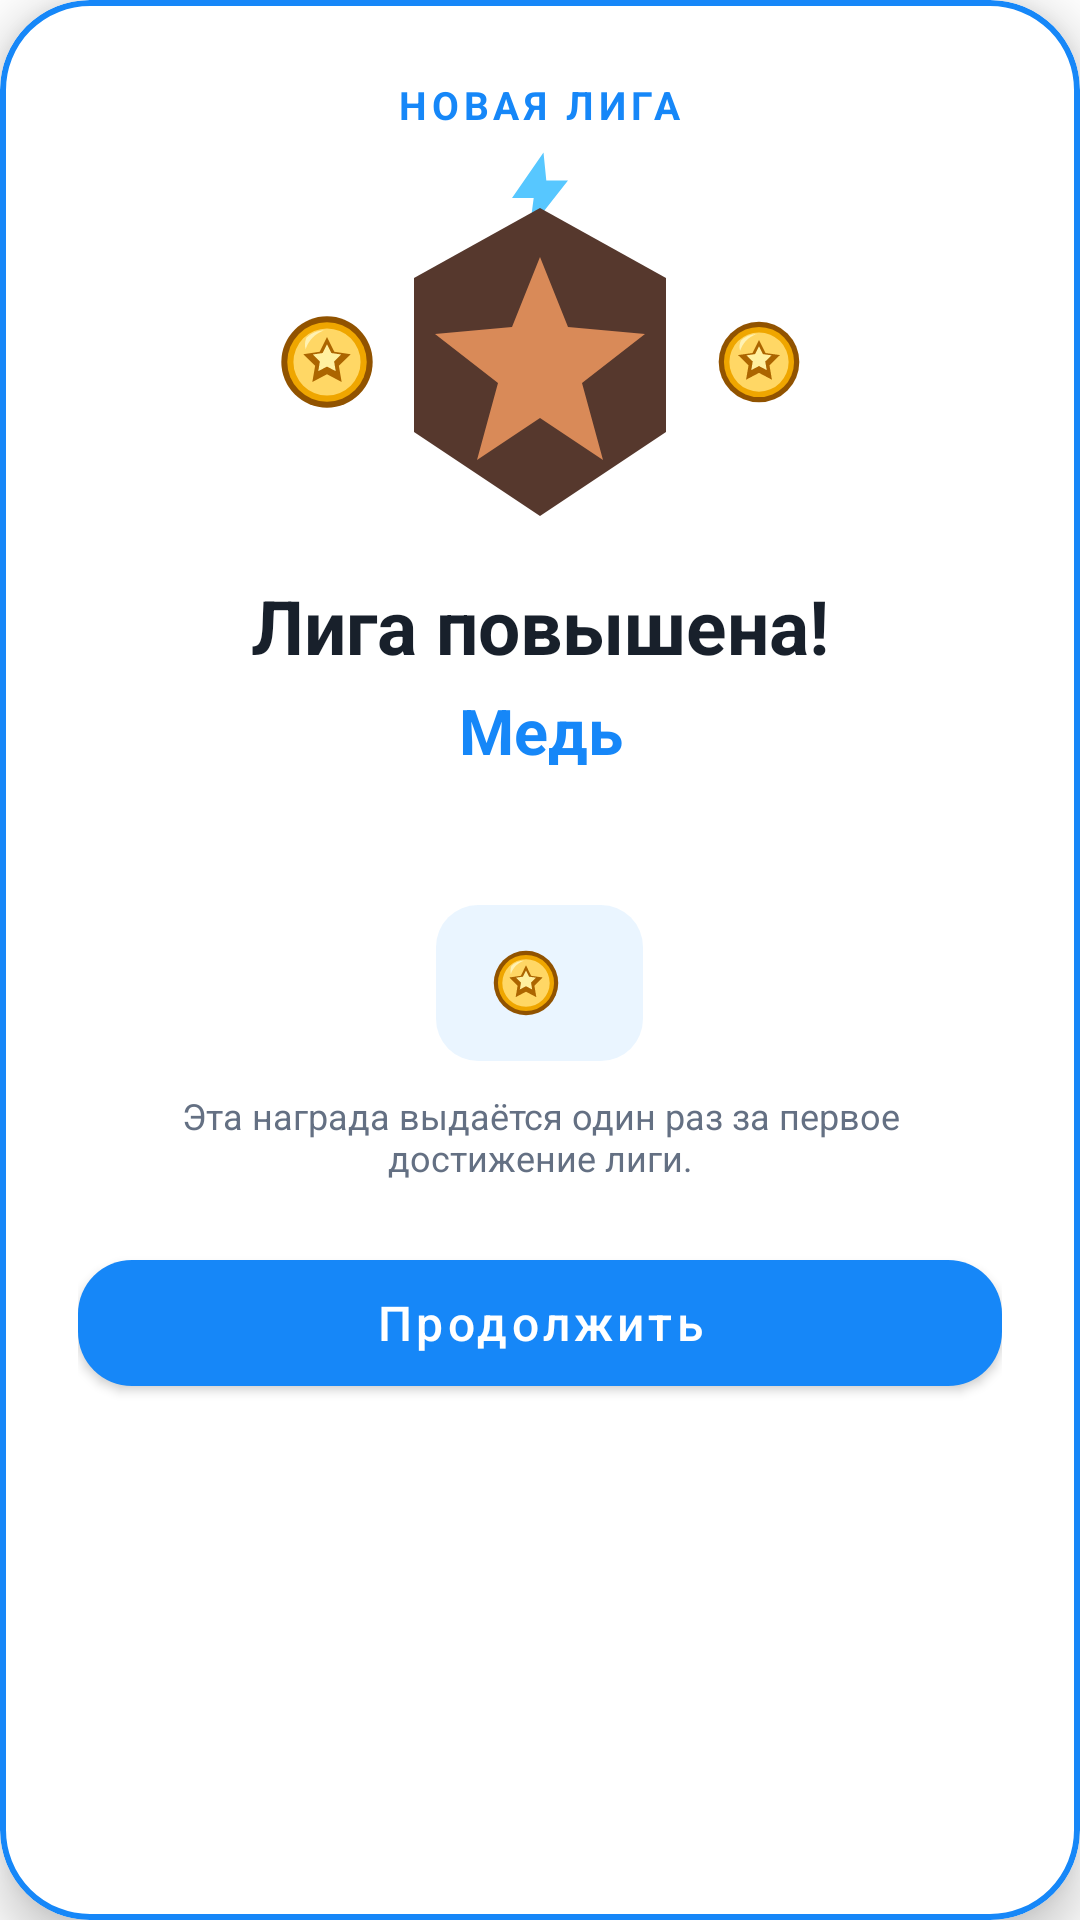

Where icons sit on this 1080 x 1920 app screen, as (x1, y1, x2, y2):
gold coin: (281, 316, 373, 408), (718, 321, 800, 403)
